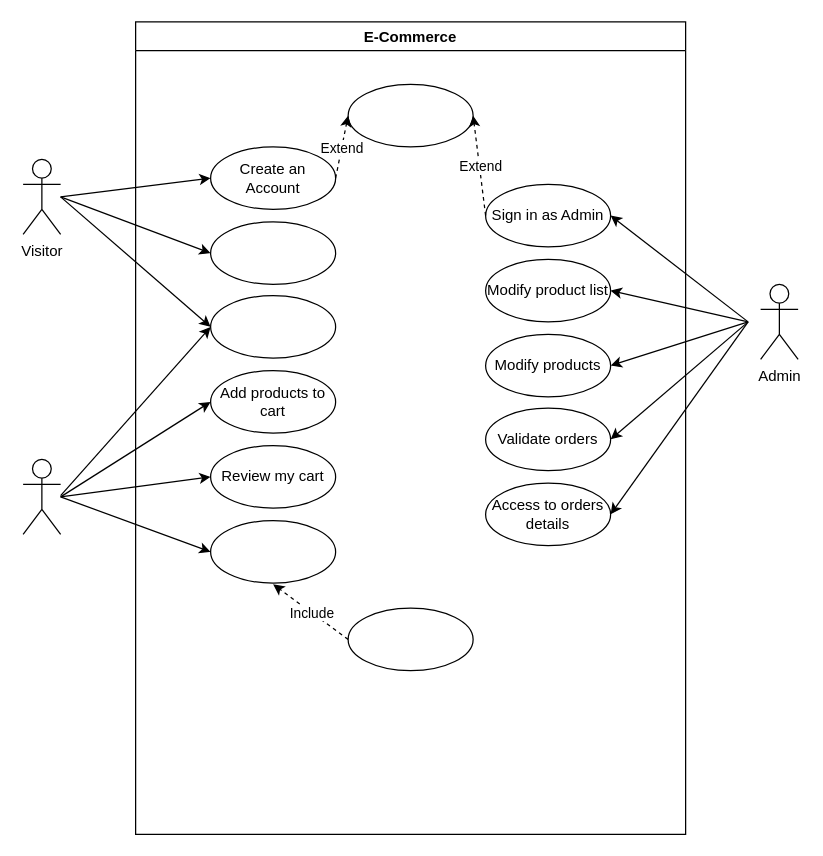
The diagram is 823 pixels wide and 856 high, and some of its shapes have lost their labels. The centre of each missing label's shape, as x and y in pixels:
"Browse products" goes at pixel 272 326.
"Make order" goes at pixel 272 551.
"Order details" goes at pixel 410 639.
"Sign in" goes at pixel 272 252.
"User" goes at pixel 41 496.
"Wrong credential" goes at pixel 410 115.
